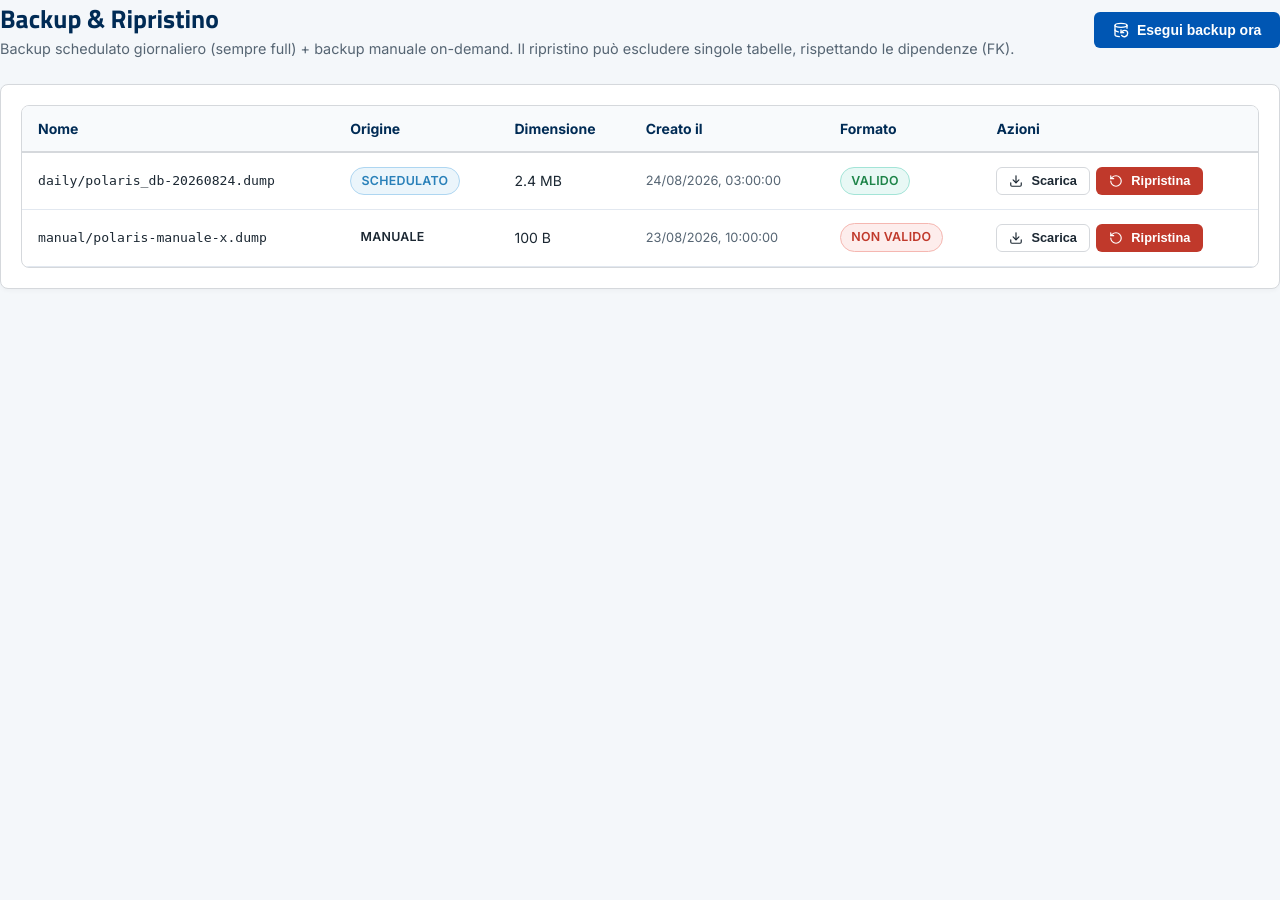
Scenario: BackupView › ripristina: esclude le tabelle selezionate, chiama eseguiRipristino solo dopo la conferma testuale
Click the button "Ripristina" in the row of "daily/polaris_db-20260824.dump": [1150, 181] box [1096,167,1203,195]
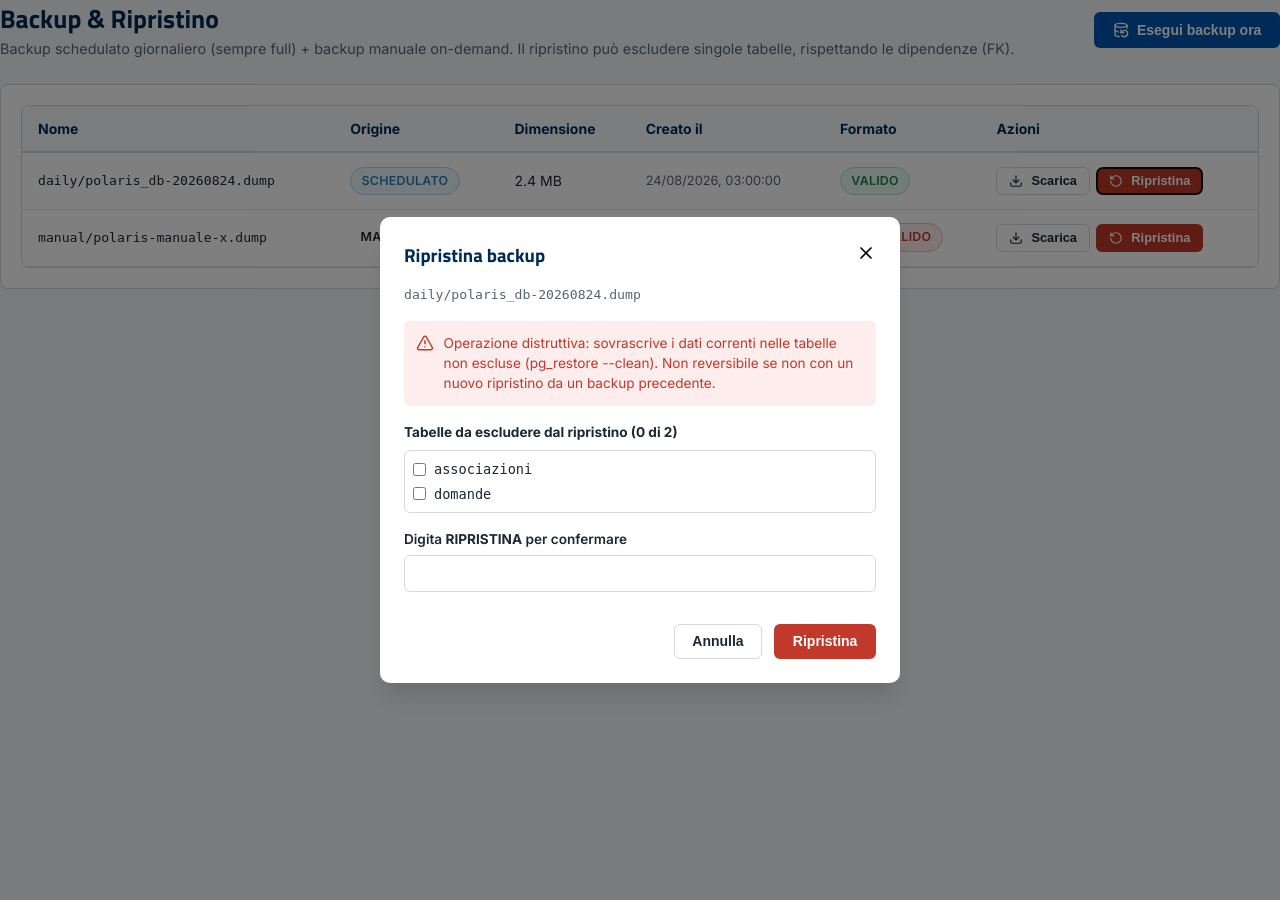
expect the text "domande" is shown: met, box [413,486,491,502]
Click the checkbox labelled "domande": [420, 494] box [413,487,426,500]
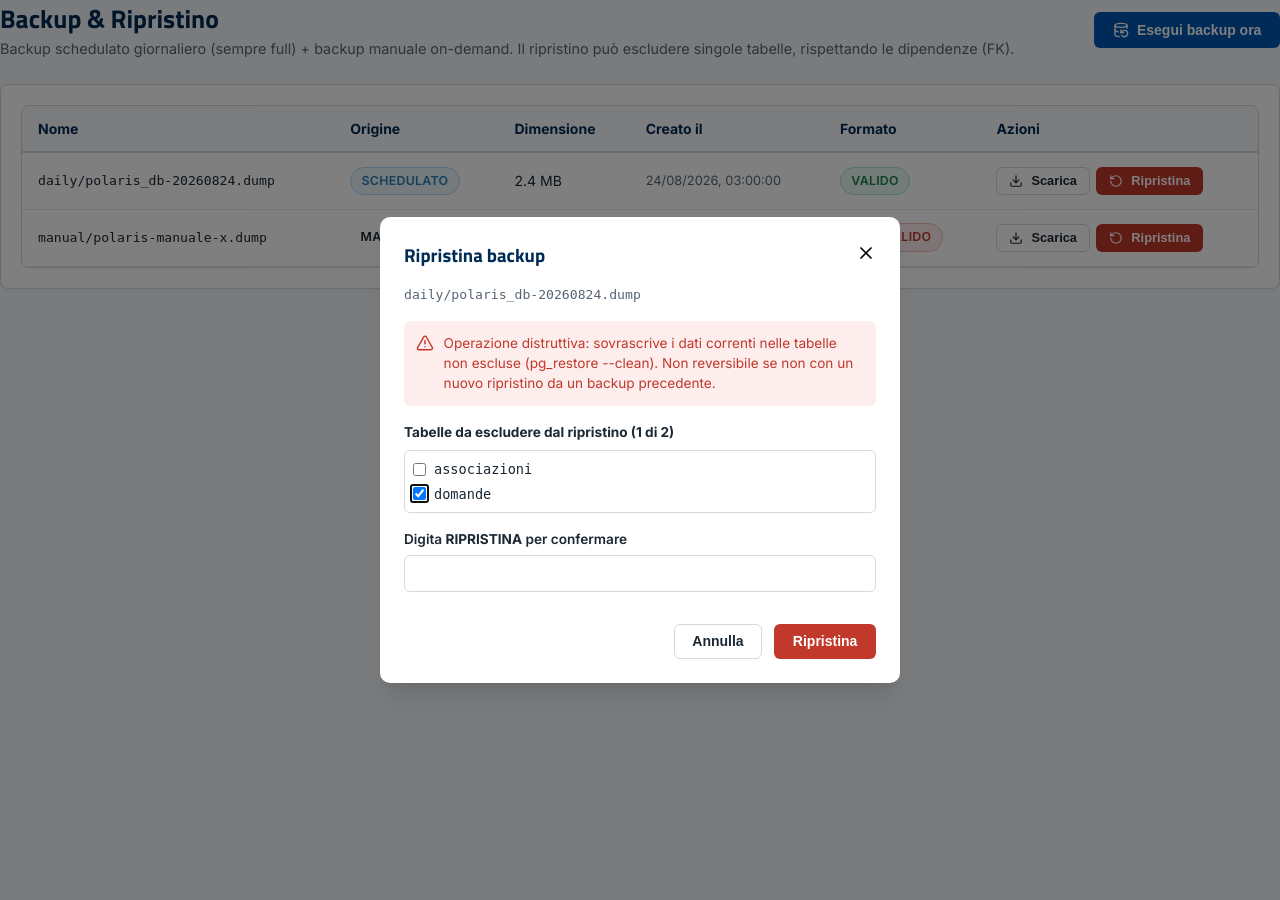
In the field labelled "Digita RIPRISTINA per confermare": [640, 573] box [404,555,876,592], type "RIPRISTINA"
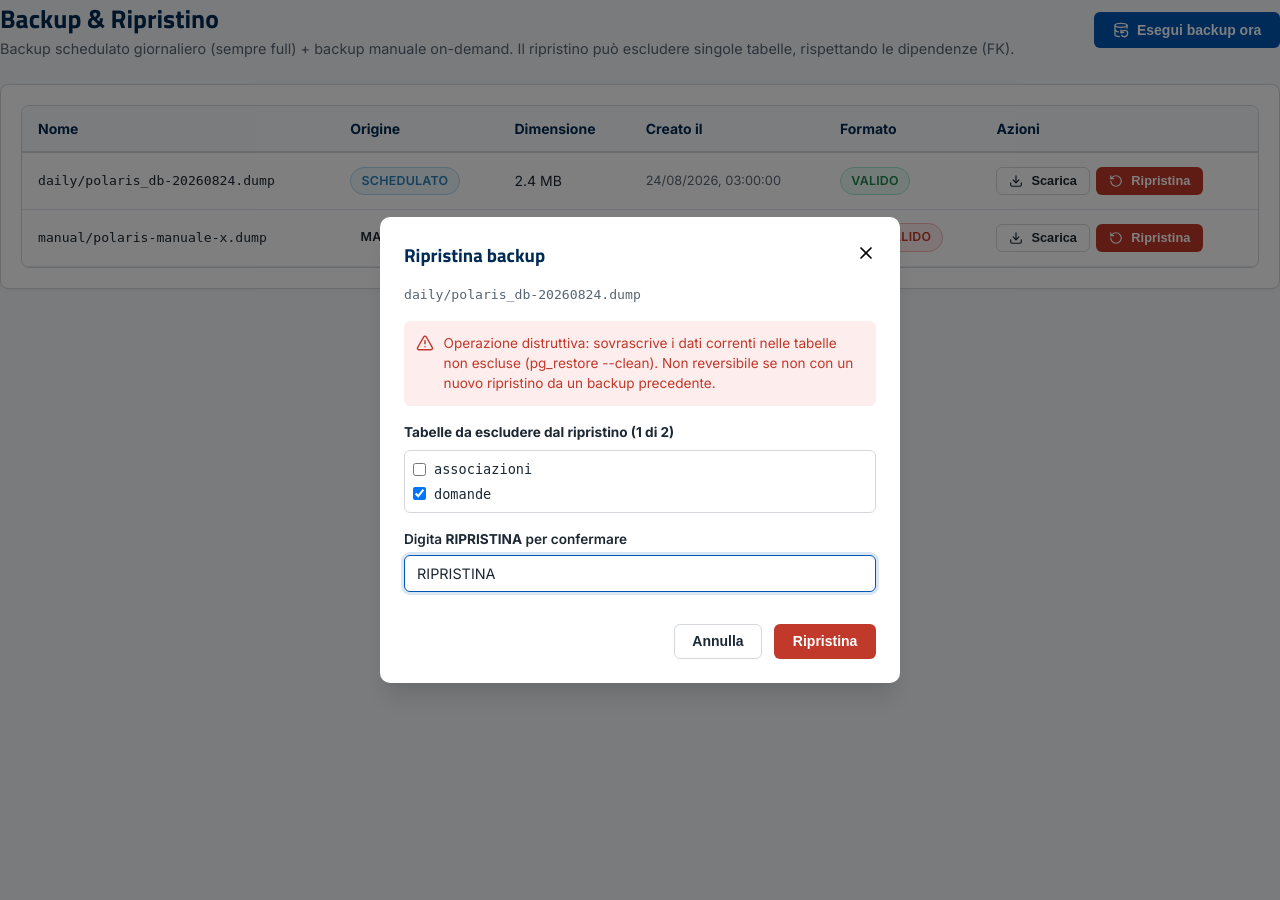
Click the button "Ripristina": [825, 641] box [774,624,876,659]
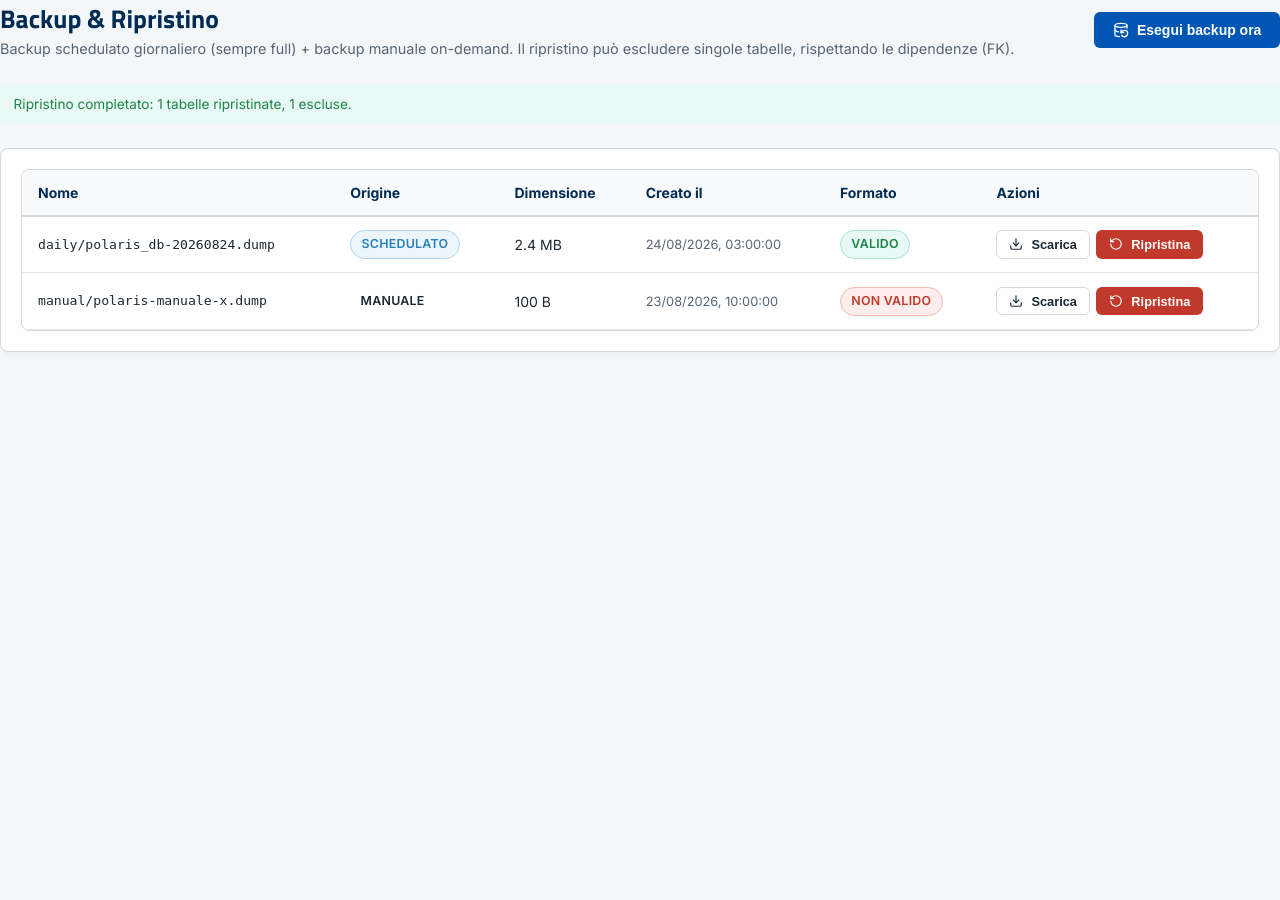
expect the text "Ripristino completato: 1 tabelle ripristinate, 1 escluse." is shown: met, box [0,84,1279,124]
